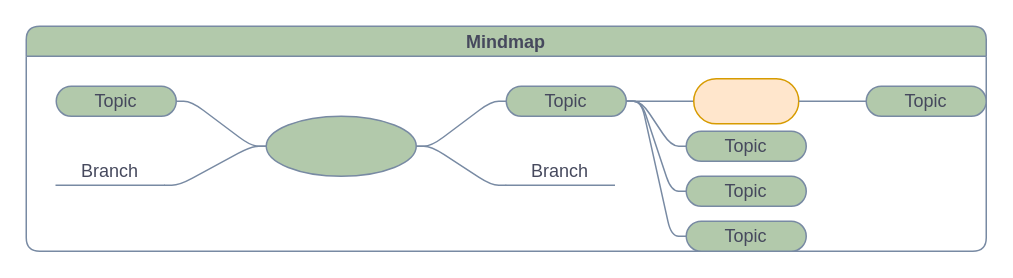
This 1013x278 diagram has some shape labels left out. The centre of each missing label's shape, as x and y in pixels:
Central Idea: the point at 340,145
这样1: the point at 745,100
